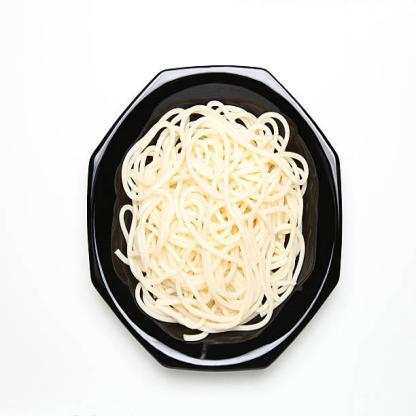Noodles: (115, 101, 310, 341)
